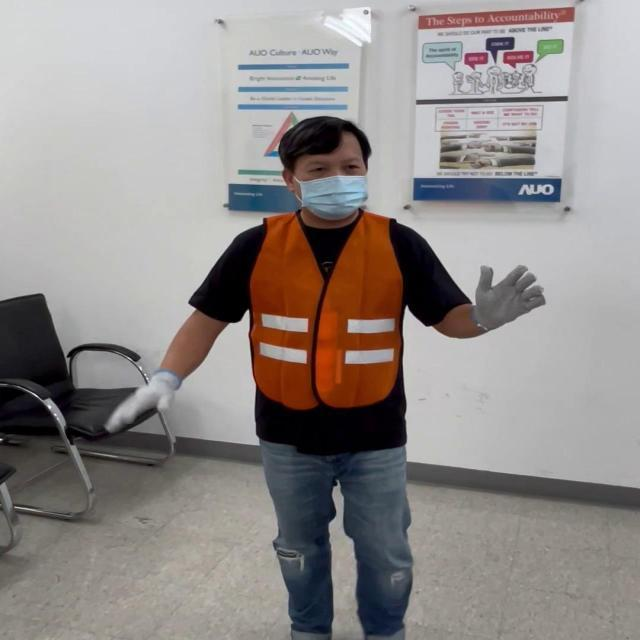gloved_hand: (467, 261, 539, 328), (114, 364, 188, 428)
